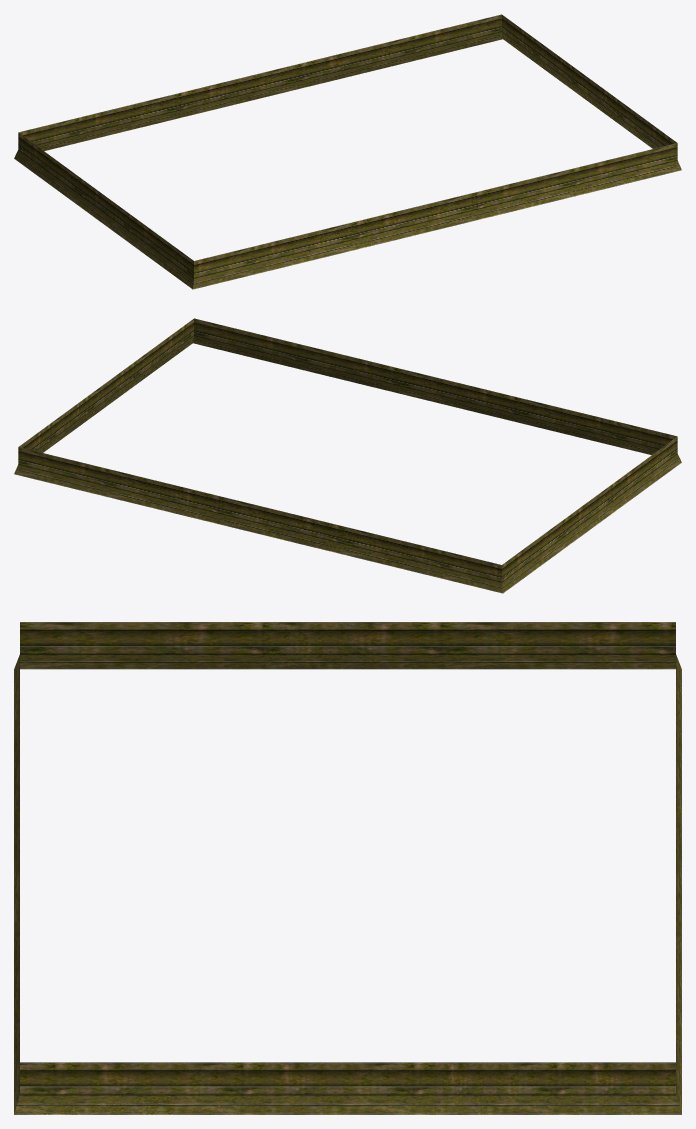
The model's file is OVERHILL_A_01_OBJECT336.fbx.
The picture shows the model from 3 angles, top to bottom: view 1: azimuth 30°, elevation 25°; view 2: azimuth 150°, elevation 25°; view 3: azimuth 270°, elevation 25°; orthographic projection. The views are drawn at different scales.
Visible parts, largest first — view 1: OVERHILL_A_01_OBJECT336; view 2: OVERHILL_A_01_OBJECT336; view 3: OVERHILL_A_01_OBJECT336.
Part boxes in pixels (<box>): OVERHILL_A_01_OBJECT336: <box>14,14,681,289</box>; OVERHILL_A_01_OBJECT336: <box>14,318,681,593</box>; OVERHILL_A_01_OBJECT336: <box>14,622,681,1114</box>.
Size of the model in its own units: 236624 by 12361 by 149972.
2 materials, 2 textured.
